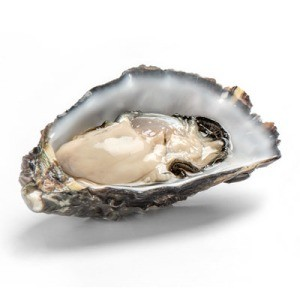oyster_brain food: (26, 64, 265, 212)
